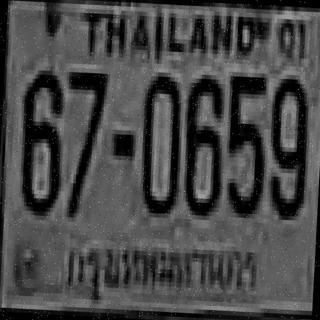N00: (137, 72, 183, 214)
N05: (221, 72, 267, 214)
N06: (17, 65, 65, 212), (180, 70, 224, 212)
N07: (60, 68, 106, 214)
N09: (264, 74, 310, 217)
P04: (59, 227, 264, 303)
